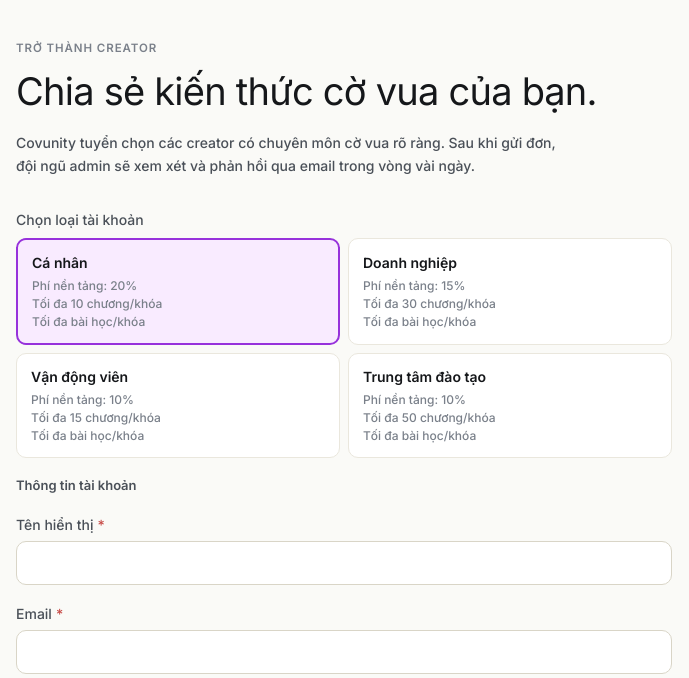
Test: BecomeCreatorPage › tier selector › switching to business tier hides name field (business_name is the display name)
Click the button with test id "tier-card-business" at {"x": 410, "y": 263}, box [348,238,672,345]
(page scrolled)
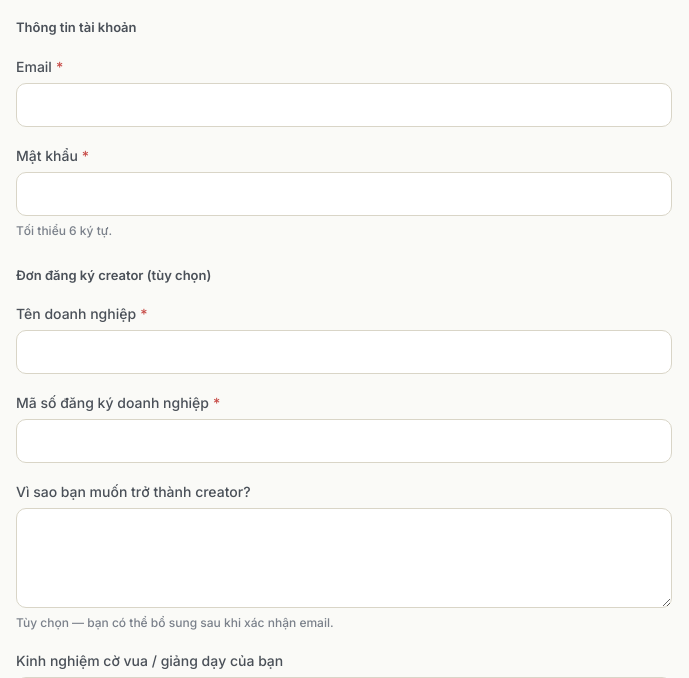
Now the field with test id "field-name" is gone
Now the field with test id "field-business-name" is shown, box [16,330,672,374]
